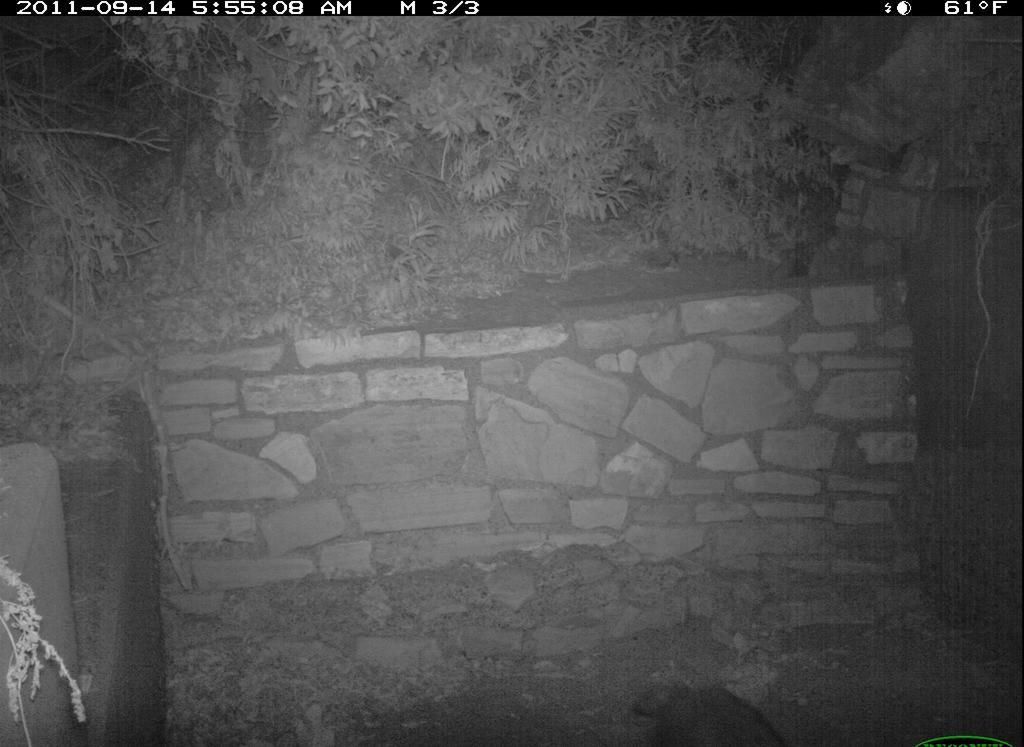raccoon: (617, 646, 821, 747)
